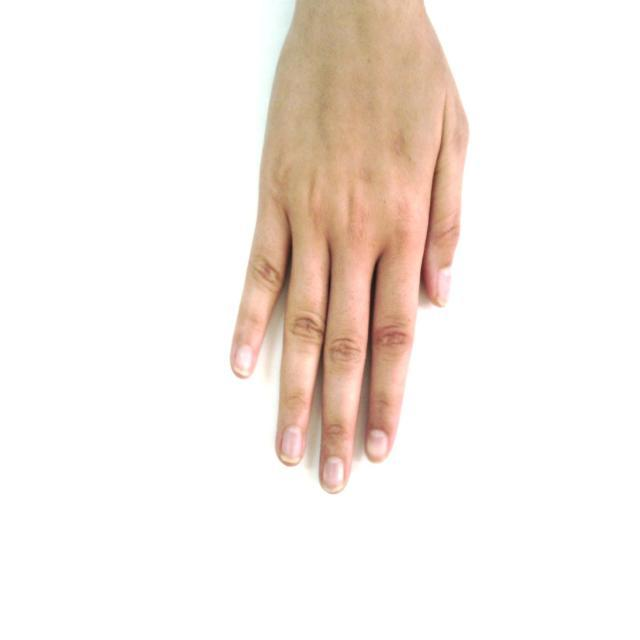Fingernail: (323, 458, 344, 493), (281, 427, 302, 462), (366, 429, 388, 461), (437, 268, 450, 304), (237, 346, 254, 373)
